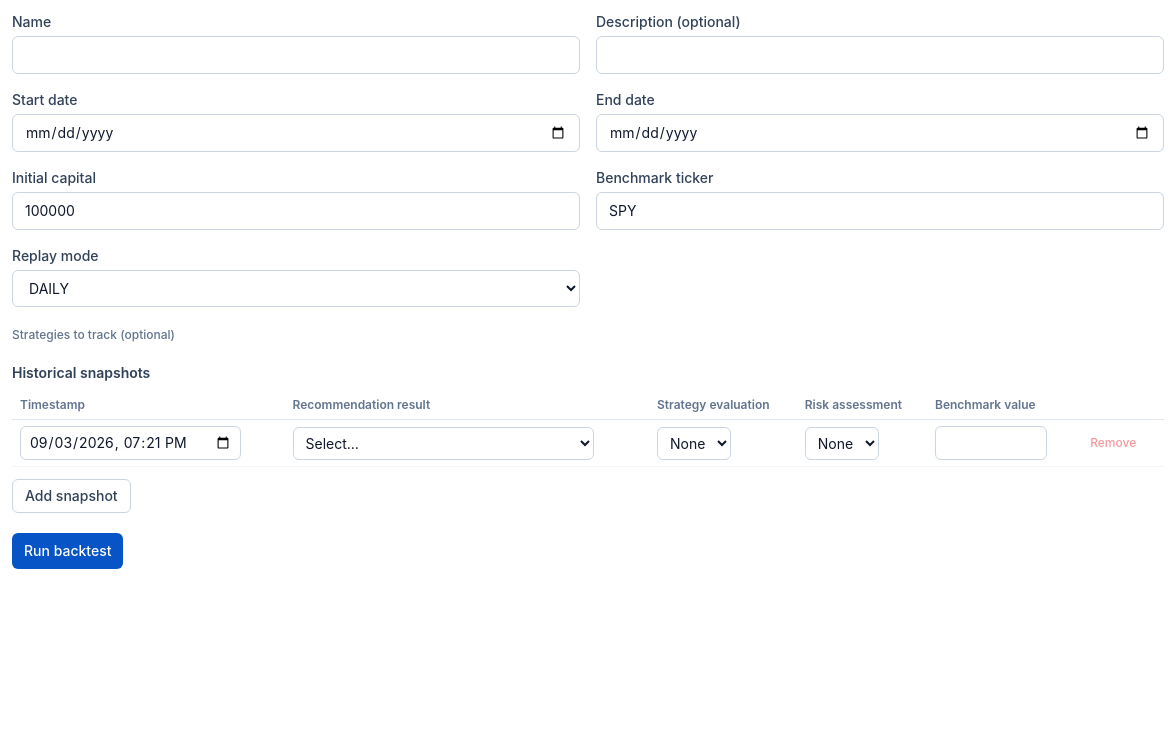
CreateBacktestForm › requires a name before submitting
Click the button "Run backtest": (68, 551) [12,533,124,569]
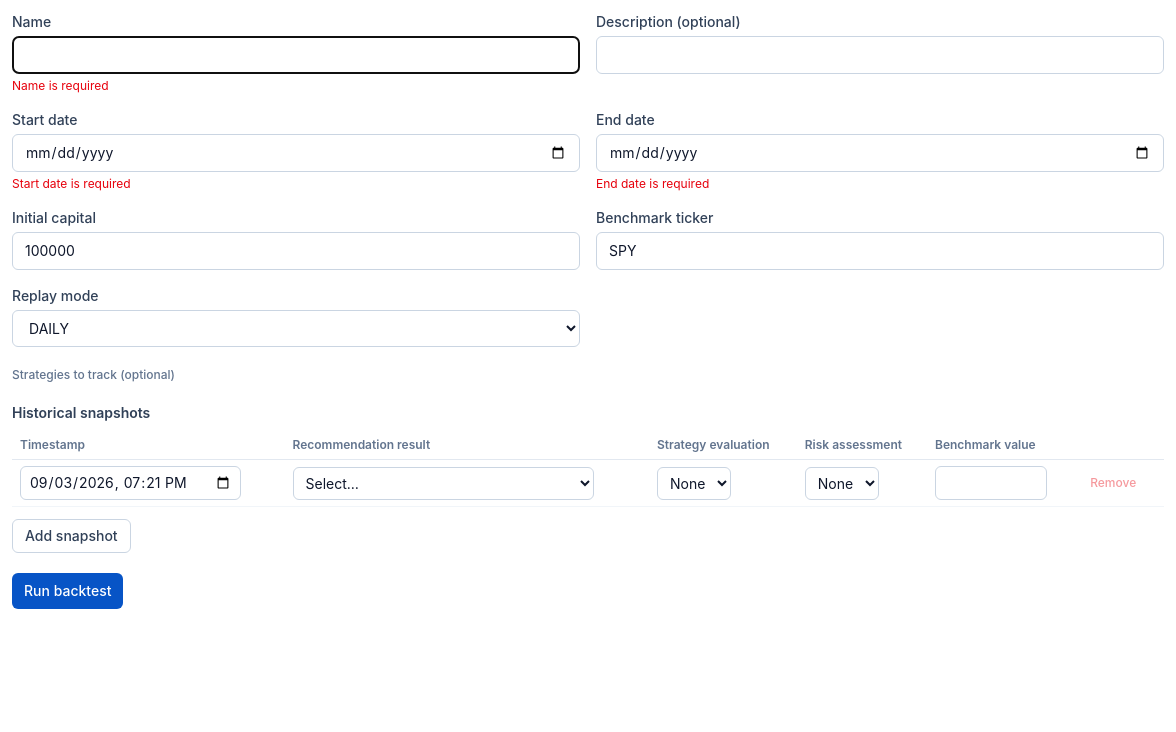
Check: the text "Name is required" is shown, box [12,78,109,93]
